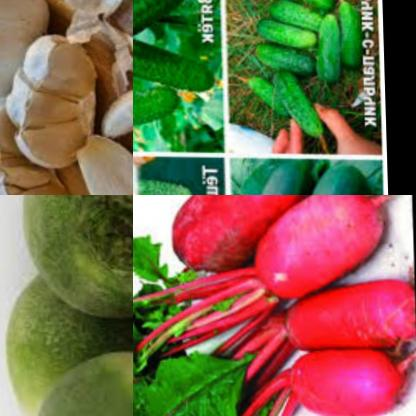cucumber: (246, 0, 366, 127), (133, 36, 221, 97), (133, 0, 206, 42), (133, 87, 190, 137), (133, 165, 202, 195)
garlic: (0, 23, 95, 173), (0, 105, 86, 195), (0, 0, 48, 114), (66, 127, 133, 195), (97, 81, 133, 142)
redka: (1, 264, 133, 416), (241, 195, 392, 305), (15, 195, 133, 322), (166, 195, 325, 276), (271, 275, 414, 360), (281, 344, 411, 416), (22, 351, 133, 416)
